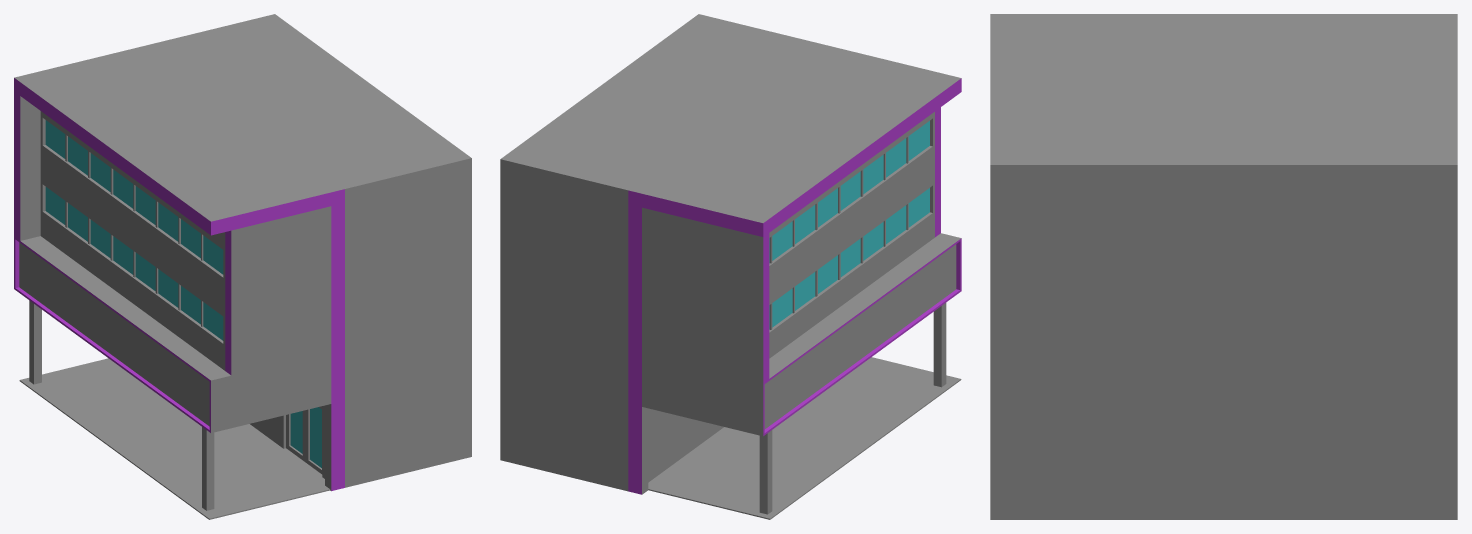
File: buildings_S_01_VAR1.fbx
3 renders of one model, left to right at view 1: azimuth 30°, elevation 25°; view 2: azimuth 150°, elevation 25°; view 3: azimuth 270°, elevation 25°, orthographic. The views are drawn at different scales.
Parts seen in each view (by area): view 1: buildings_S_01_VAR1; view 2: buildings_S_01_VAR1; view 3: buildings_S_01_VAR1.
Part boxes in pixels (left/top/right/bottom): buildings_S_01_VAR1: left=14, top=14, right=471, bottom=519; buildings_S_01_VAR1: left=500, top=14, right=961, bottom=519; buildings_S_01_VAR1: left=990, top=14, right=1457, bottom=519.
Bounding box in the file's own units: 9.53 × 10.41 × 12.43.
